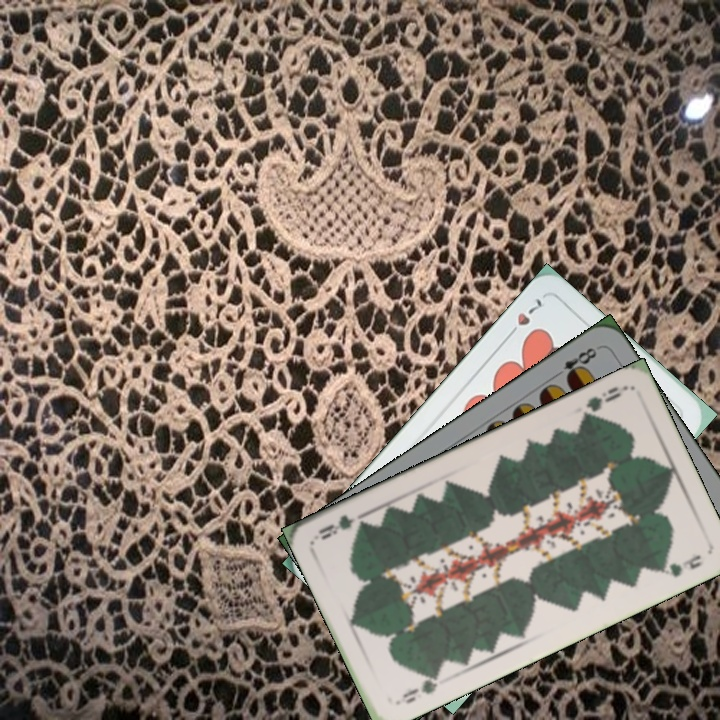E8: (549, 343, 600, 384)
G9: (578, 381, 629, 423), (391, 668, 442, 708)
H7: (502, 293, 547, 342)
